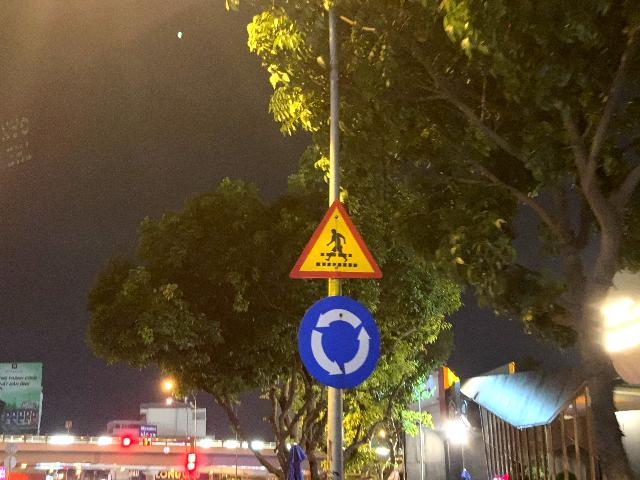duong-nguoi-di-bo-cat-ngang: (288, 197, 382, 278)
noi-giao-nhau-chay-theo-vong-xuyen: (298, 296, 380, 391)
